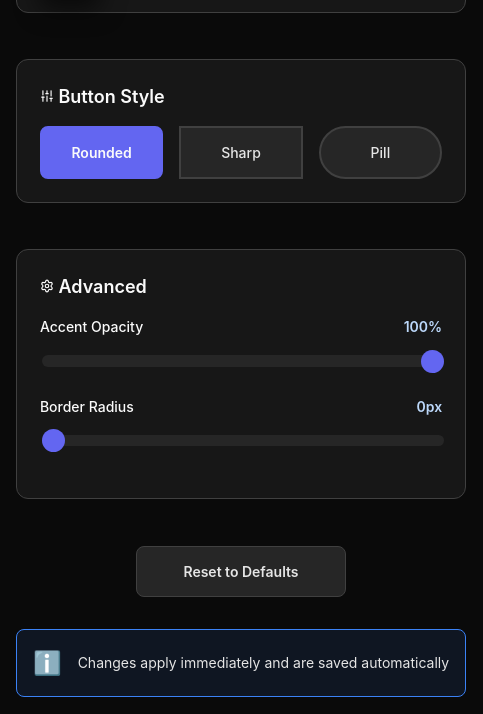
Test: CustomizePanel › reset functionality › resets opacity and radius values
(page scrolled)
Step 1. Click the button "Reset to Defaults" → coordinates (241, 571), box [136, 546, 346, 596]
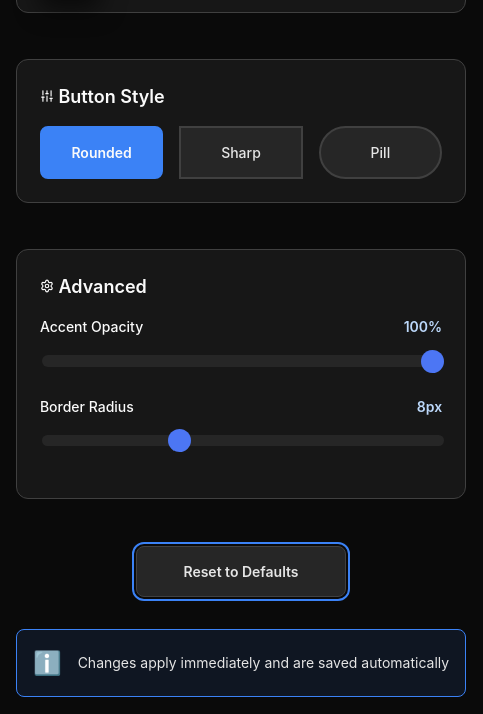
Expected: the text "8px" is shown, [417, 396, 442, 417]
